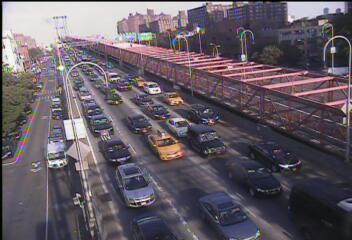neg: (230, 28, 258, 66)
